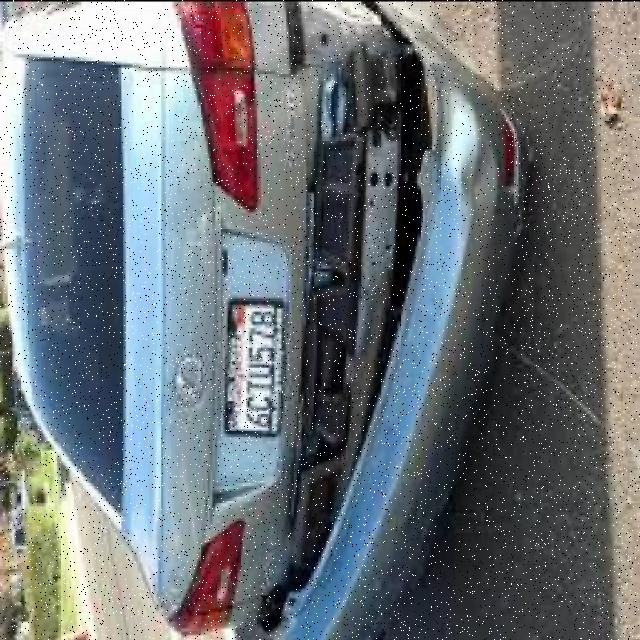damage: (258, 9, 528, 636)
